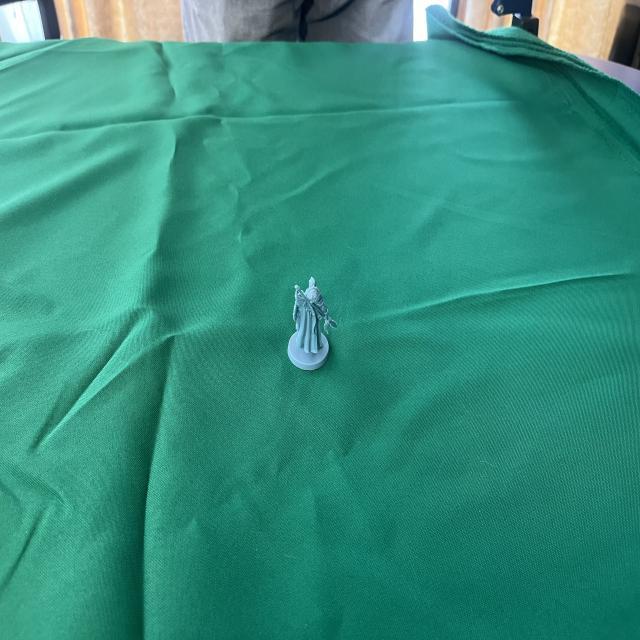isis_follower: (289, 273, 339, 370)
